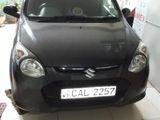car: (4, 0, 150, 112)
